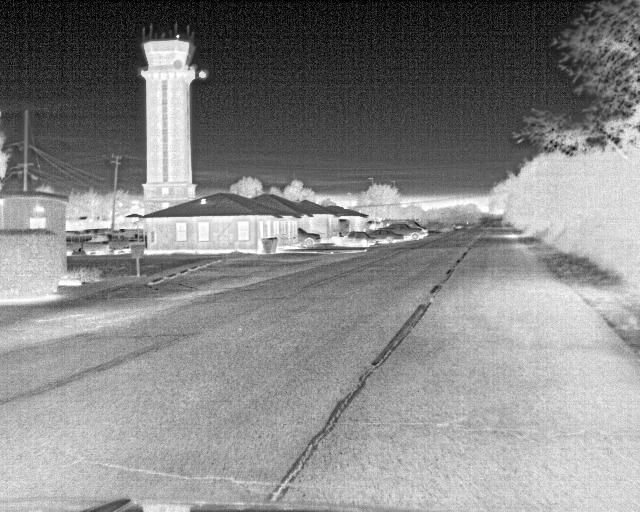car: (82, 233, 114, 256), (387, 225, 424, 242), (336, 233, 375, 249), (370, 228, 404, 245), (297, 225, 321, 245)
